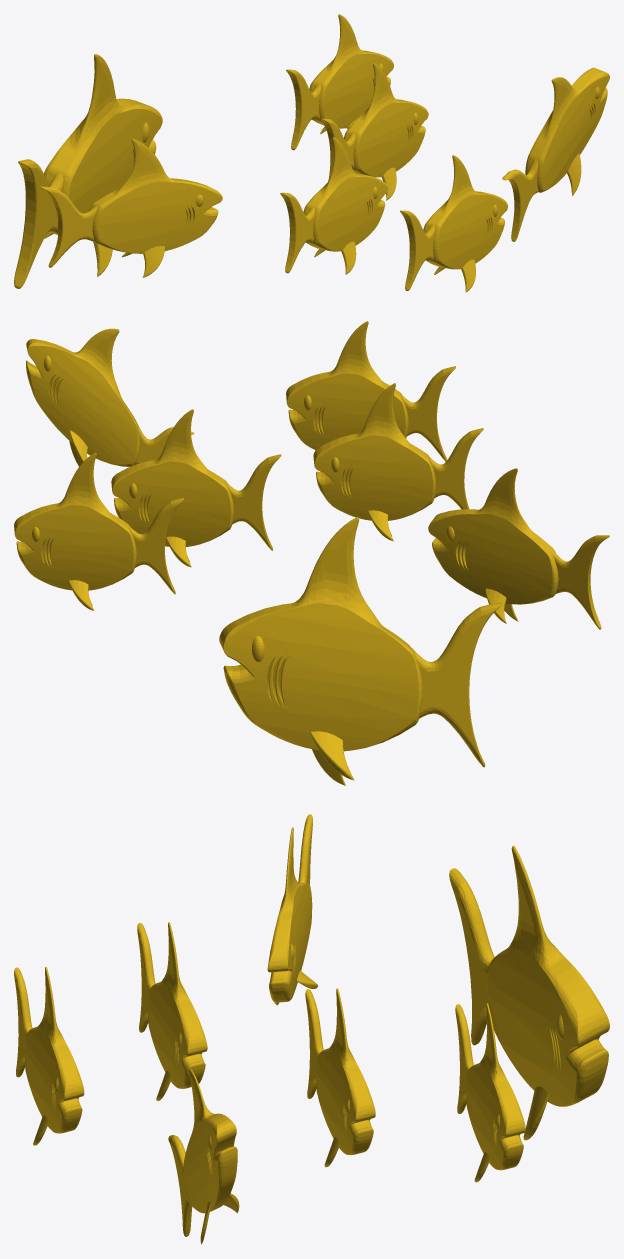
Rendered from yellowfish.glb.
The picture shows the model from 3 angles, top to bottom: view 1: azimuth 30°, elevation 25°; view 2: azimuth 150°, elevation 25°; view 3: azimuth 270°, elevation 25°; orthographic projection. The views are drawn at different scales.
Parts seen in each view (by area): view 1: Mesh_Mesh_head_geo.001_lambert2SG.001; view 2: Mesh_Mesh_head_geo.001_lambert2SG.001; view 3: Mesh_Mesh_head_geo.001_lambert2SG.001.
Boxes of the visible parts, x1,y1,x2,y2 form: Mesh_Mesh_head_geo.001_lambert2SG.001: (14,14,609,292); Mesh_Mesh_head_geo.001_lambert2SG.001: (14,321,609,785); Mesh_Mesh_head_geo.001_lambert2SG.001: (14,814,609,1244).
Size of the model in its own units: 130 by 53 by 98.63.
